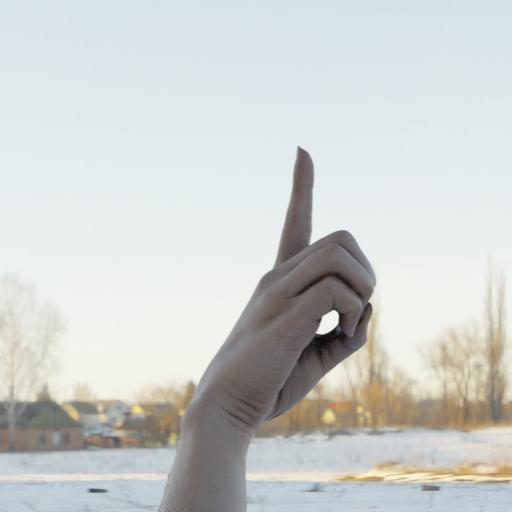D: (205, 124, 394, 447)
